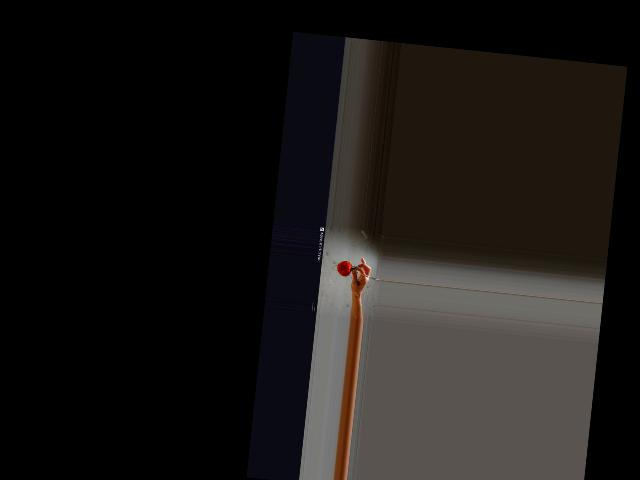tomato: (335, 261, 351, 277)
